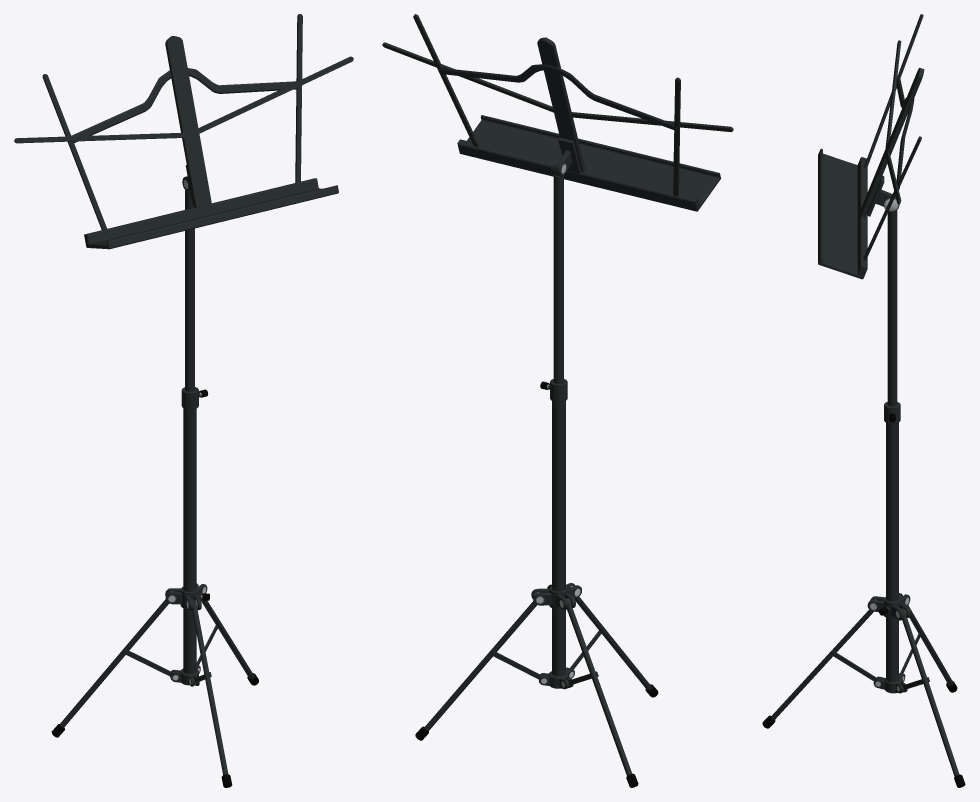
The model's file is music_stand.glb.
3 views of the same model, side by side, from view 1: azimuth 30°, elevation 25°; view 2: azimuth 150°, elevation 25°; view 3: azimuth 270°, elevation 25° (orthographic). The views are drawn at different scales.
Visible parts, largest first — view 1: pCube5, pCylinder4, pCube4, pCube8 (×2), pCylinder2, pCube11, pCube15, pCube14, pCube12, pCube10, pCube13; view 2: pCube5, pCylinder4, pCube8 (×3), pCylinder2, pCube4, pCube12, pCube11, pCube15, pCube10, pCube13, pCube14; view 3: pCube5, pCylinder4, pCube8 (×3), pCylinder2, pCube4, pCube14, pCube15, pCube10.
Boxes of the visible parts, left/top/right/bottom form: pCube5: left=84, top=178, right=338, bottom=249; pCylinder4: left=183, top=408, right=196, bottom=673; pCube4: left=165, top=36, right=211, bottom=208; pCube8 (×2): left=60, top=599, right=228, bottom=774; pCylinder2: left=185, top=190, right=194, bottom=391; pCube11: left=198, top=56, right=353, bottom=133; pCube15: left=295, top=14, right=302, bottom=183; pCube14: left=42, top=74, right=107, bottom=230; pCube12: left=70, top=70, right=171, bottom=143; pCube10: left=14, top=132, right=184, bottom=143; pCube13: left=187, top=68, right=296, bottom=93; pCube5: left=457, top=115, right=720, bottom=211; pCylinder4: left=552, top=401, right=565, bottom=675; pCube8 (×3): left=424, top=587, right=651, bottom=786; pCylinder2: left=553, top=175, right=563, bottom=383; pCube4: left=537, top=37, right=585, bottom=172; pCube12: left=545, top=64, right=674, bottom=129; pCube11: left=382, top=42, right=553, bottom=112; pCube15: left=413, top=14, right=479, bottom=147; pCube10: left=570, top=112, right=733, bottom=132; pCube13: left=438, top=64, right=556, bottom=82; pCube14: left=673, top=77, right=680, bottom=196; pCube5: left=818, top=148, right=867, bottom=279; pCylinder4: left=886, top=422, right=898, bottom=681; pCube8 (×3): left=770, top=596, right=959, bottom=776; pCylinder2: left=887, top=210, right=897, bottom=406; pCube4: left=860, top=68, right=924, bottom=217; pCube14: left=864, top=14, right=923, bottom=168; pCube15: left=863, top=136, right=921, bottom=260; pCube10: left=885, top=40, right=901, bottom=148.
Size of the model in its own units: 1.03 by 2 by 0.5479.
1 material, 1 textured.
